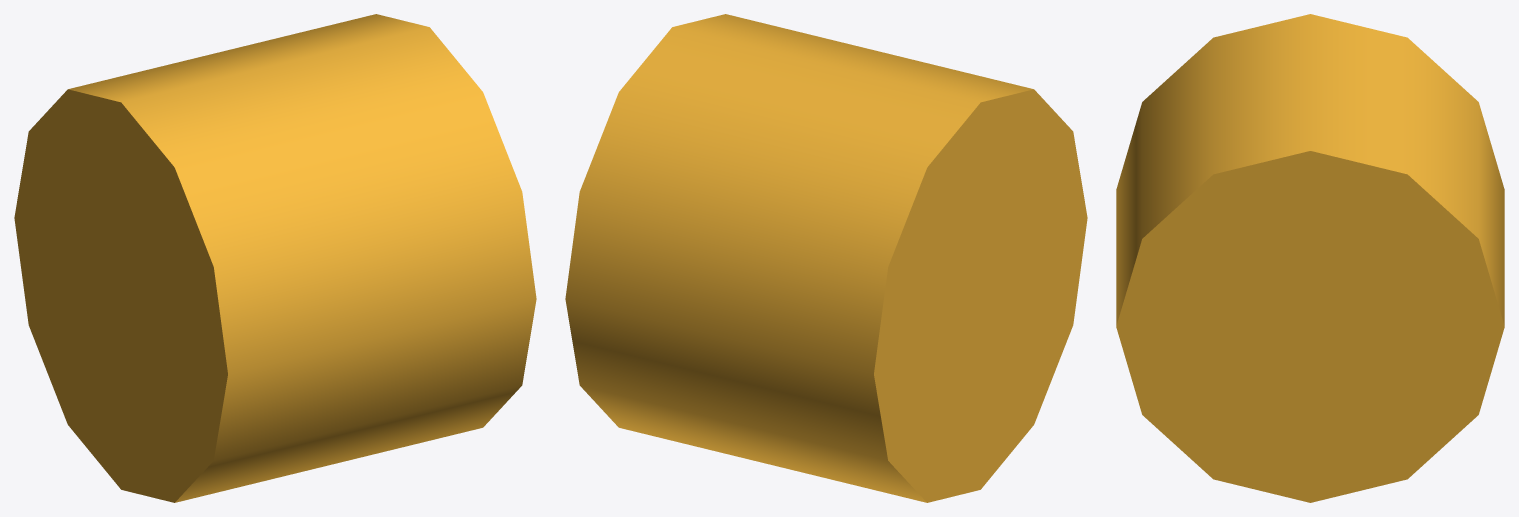
Rendered from hay-bale.glb.
3 views of the same model, side by side, from view 1: azimuth 30°, elevation 25°; view 2: azimuth 150°, elevation 25°; view 3: azimuth 270°, elevation 25° (orthographic). The views are drawn at different scales.
Size of the model in its own units: 1.5 by 1.8 by 1.8.
